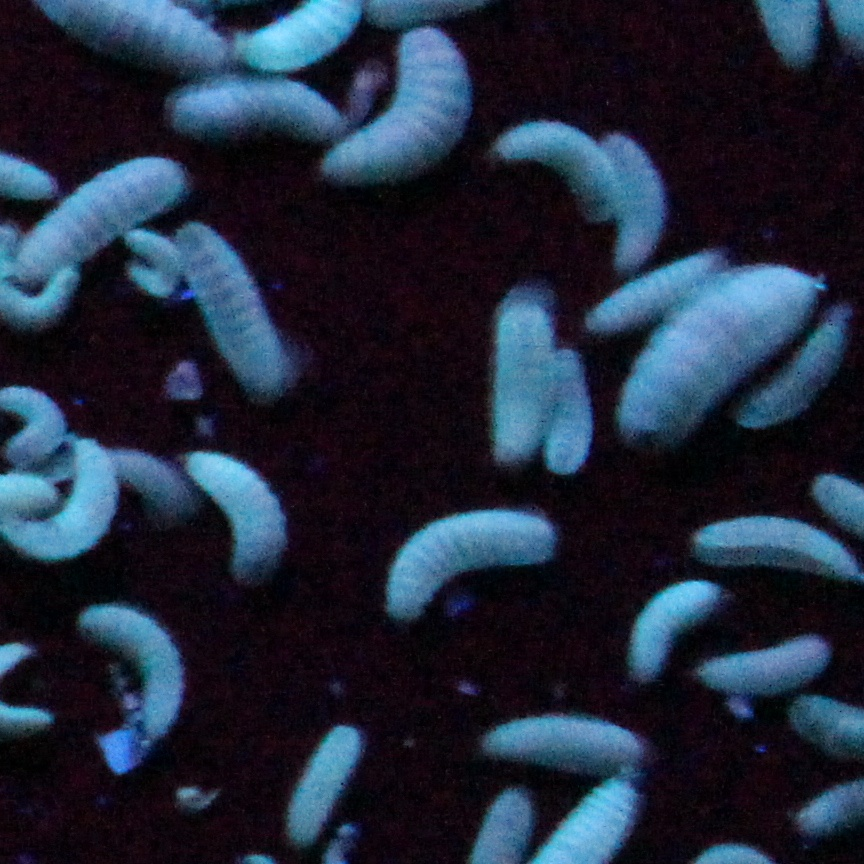larve: (636, 286, 781, 446), (393, 510, 543, 616), (192, 225, 294, 377), (334, 49, 453, 177), (28, 167, 177, 269), (104, 596, 192, 750), (192, 445, 289, 579), (495, 119, 611, 217), (751, 319, 848, 423), (28, 450, 116, 552), (285, 728, 364, 833), (693, 512, 841, 568), (592, 258, 697, 326), (490, 710, 636, 758), (614, 133, 664, 268), (497, 307, 544, 447), (188, 79, 327, 126), (700, 635, 820, 688), (126, 438, 192, 521), (641, 581, 700, 672), (1, 382, 67, 450), (548, 360, 588, 465), (143, 235, 175, 301)
